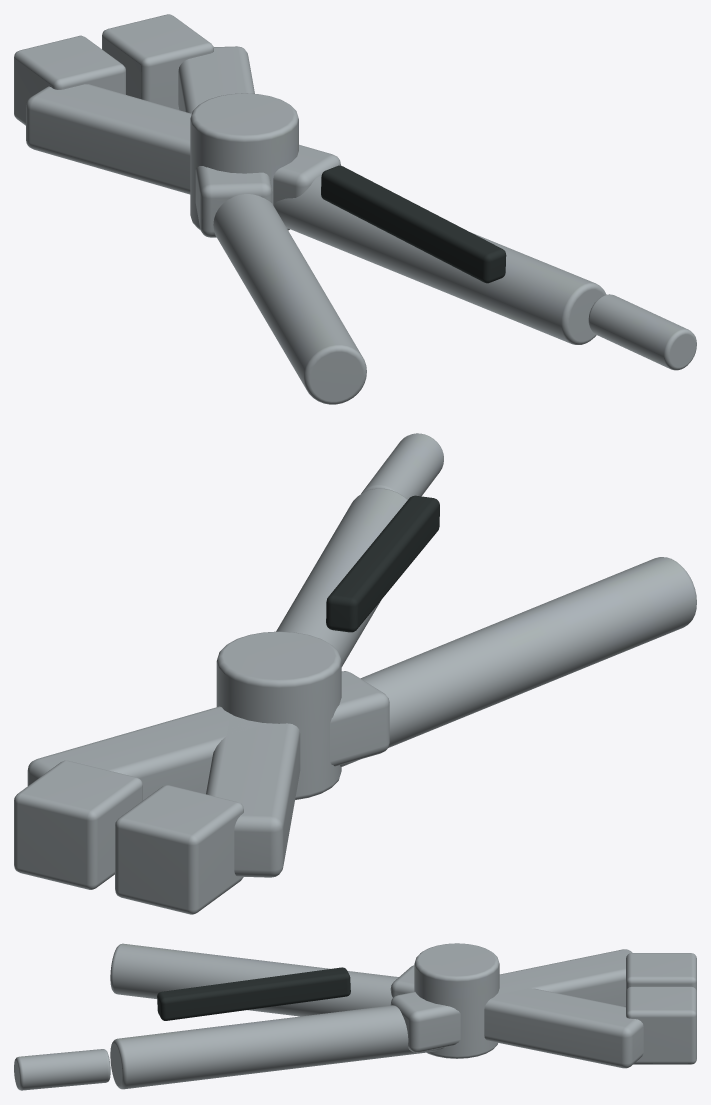
Rendered from lock-grip-locking-pliers.glb.
The picture shows the model from 3 angles, top to bottom: view 1: azimuth 30°, elevation 25°; view 2: azimuth 150°, elevation 25°; view 3: azimuth 270°, elevation 25°; orthographic projection. The views are drawn at different scales.
Parts seen in each view (by area): view 1: Forged jaw.001, Curved tool handle.001, Curved tool handle, Central pivot, Quick-release lever, Forged jaw, Serrated jaw tip, Serrated jaw tip.001, Rear adjusting screw; view 2: Curved tool handle, Forged jaw, Serrated jaw tip.001, Central pivot, Serrated jaw tip, Forged jaw.001, Curved tool handle.001, Quick-release lever, Rear adjusting screw; view 3: Curved tool handle.001, Forged jaw, Curved tool handle, Forged jaw.001, Central pivot, Quick-release lever, Serrated jaw tip, Rear adjusting screw, Serrated jaw tip.001.
Part boxes in pixels (bbox=[...]): Forged jaw.001: bbox=[26, 84, 340, 205]; Curved tool handle.001: bbox=[274, 175, 606, 344]; Curved tool handle: bbox=[213, 194, 366, 404]; Central pivot: bbox=[190, 93, 298, 230]; Quick-release lever: bbox=[321, 165, 506, 283]; Forged jaw: bbox=[178, 46, 272, 237]; Serrated jaw tip: bbox=[102, 14, 213, 109]; Serrated jaw tip.001: bbox=[14, 35, 125, 125]; Rear adjusting screw: bbox=[588, 294, 696, 370]; Curved tool handle: bbox=[340, 557, 696, 766]; Forged jaw: bbox=[27, 671, 389, 800]; Serrated jaw tip.001: bbox=[115, 785, 243, 914]; Central pivot: bbox=[216, 631, 341, 799]; Serrated jaw tip: bbox=[14, 760, 142, 889]; Forged jaw.001: bbox=[206, 714, 300, 877]; Curved tool handle.001: bbox=[276, 488, 407, 666]; Quick-release lever: bbox=[326, 495, 439, 632]; Rear adjusting screw: bbox=[361, 433, 443, 499]; Curved tool handle.001: bbox=[110, 1005, 443, 1089]; Forged jaw: bbox=[390, 965, 643, 1068]; Curved tool handle: bbox=[110, 943, 398, 1016]; Forged jaw.001: bbox=[390, 949, 632, 1052]; Central pivot: bbox=[414, 943, 499, 1058]; Quick-release lever: bbox=[157, 967, 350, 1020]; Serrated jaw tip: bbox=[626, 986, 696, 1064]; Rear adjusting screw: bbox=[14, 1049, 110, 1090]; Serrated jaw tip.001: bbox=[626, 953, 696, 991].
Size of the model in its own units: 0.1039 by 0.032 by 0.2405.
Materials: 2 (2 with a texture image).
